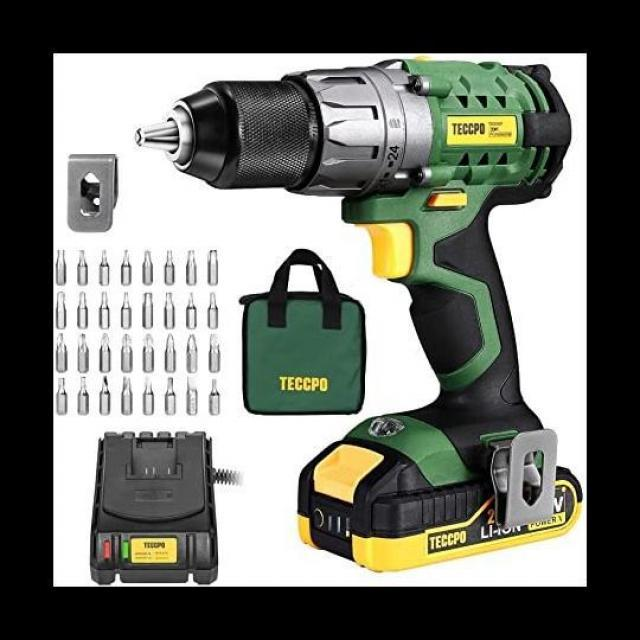drill: (135, 57, 584, 574), (89, 430, 245, 588)
